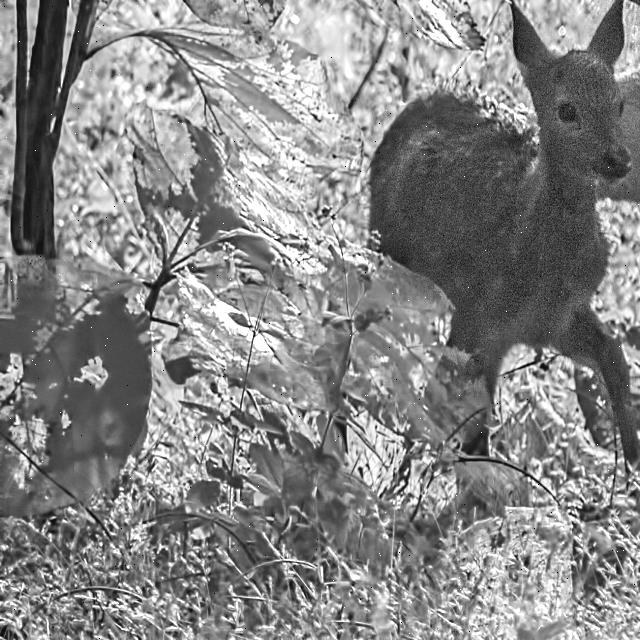deer: (369, 0, 640, 274)
